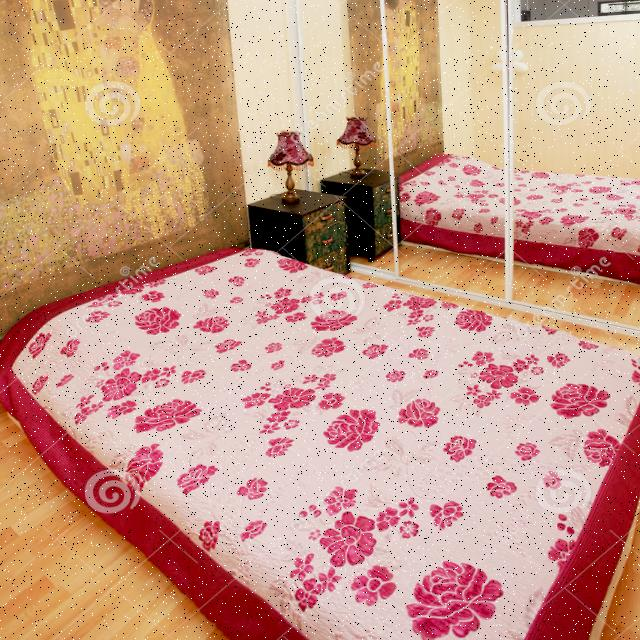bed: (2, 248, 640, 640), (399, 146, 640, 260)
